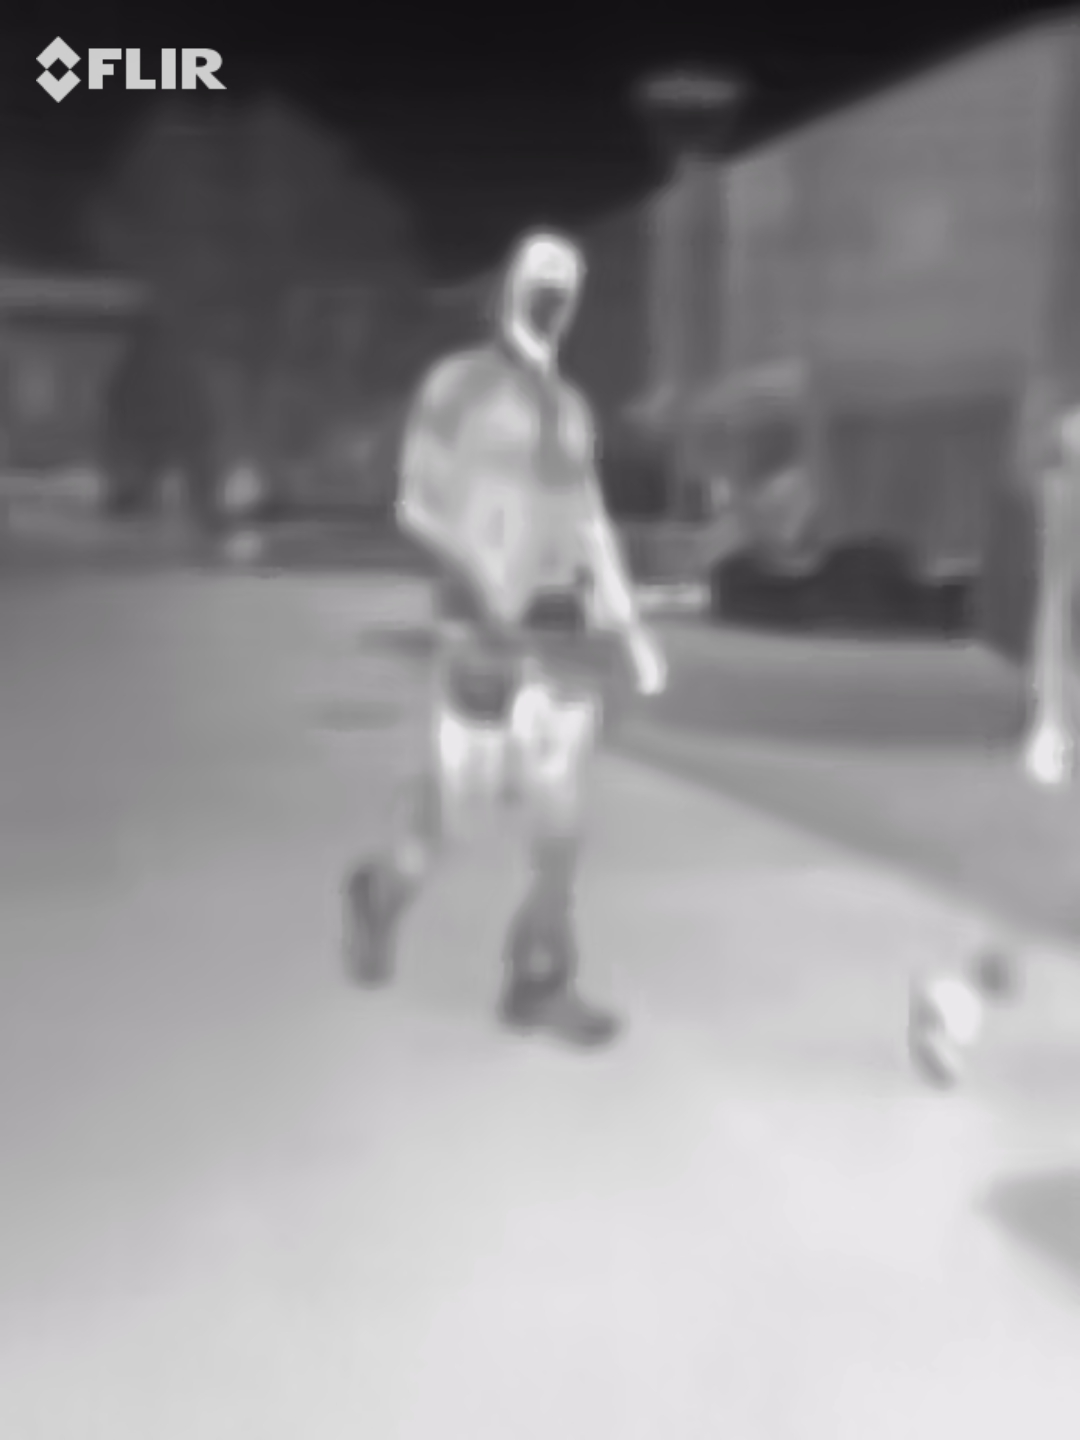head: (498, 227, 592, 354)
